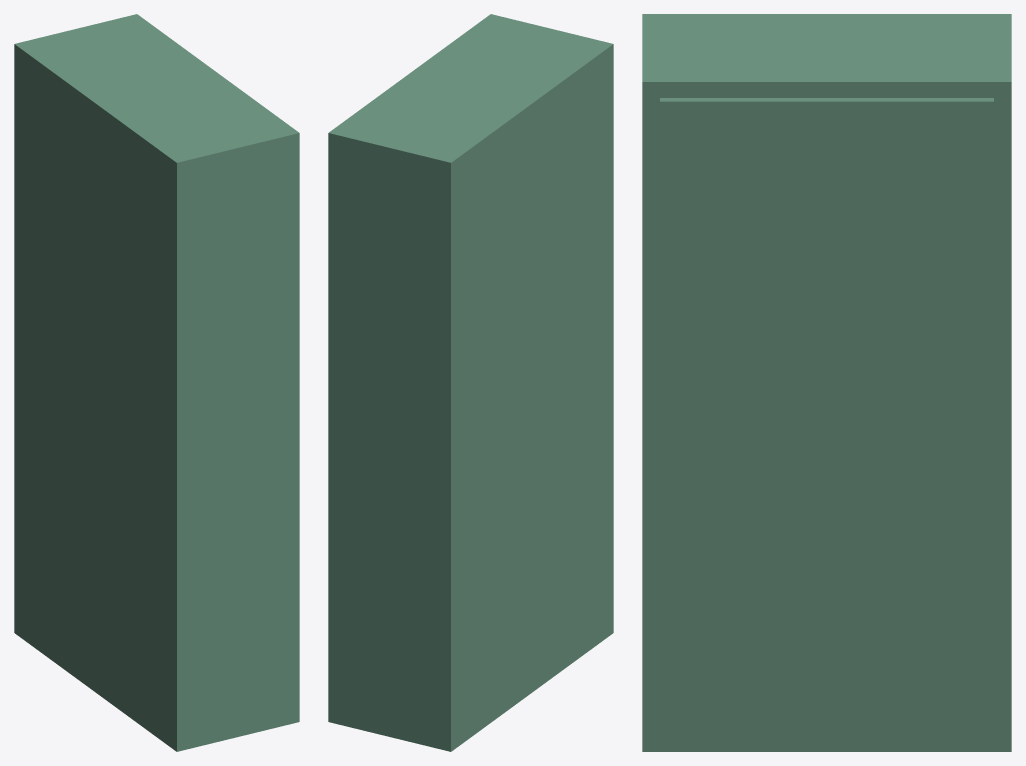
File: wall_console_01.glb
3 views of the same model, side by side, from view 1: azimuth 30°, elevation 25°; view 2: azimuth 150°, elevation 25°; view 3: azimuth 270°, elevation 25° (orthographic). The views are drawn at different scales.
Parts seen in each view (by area): view 1: Cube; view 2: Cube; view 3: Cube.
Part boxes in pixels (x1=…): Cube: x1=14, y1=14, x2=299, y2=751; Cube: x1=328, y1=14, x2=613, y2=751; Cube: x1=642, y1=14, x2=1011, y2=751.
Bounding box in the file's own units: 0.5059 × 2.2 × 1.1.
1 material, 1 textured.
